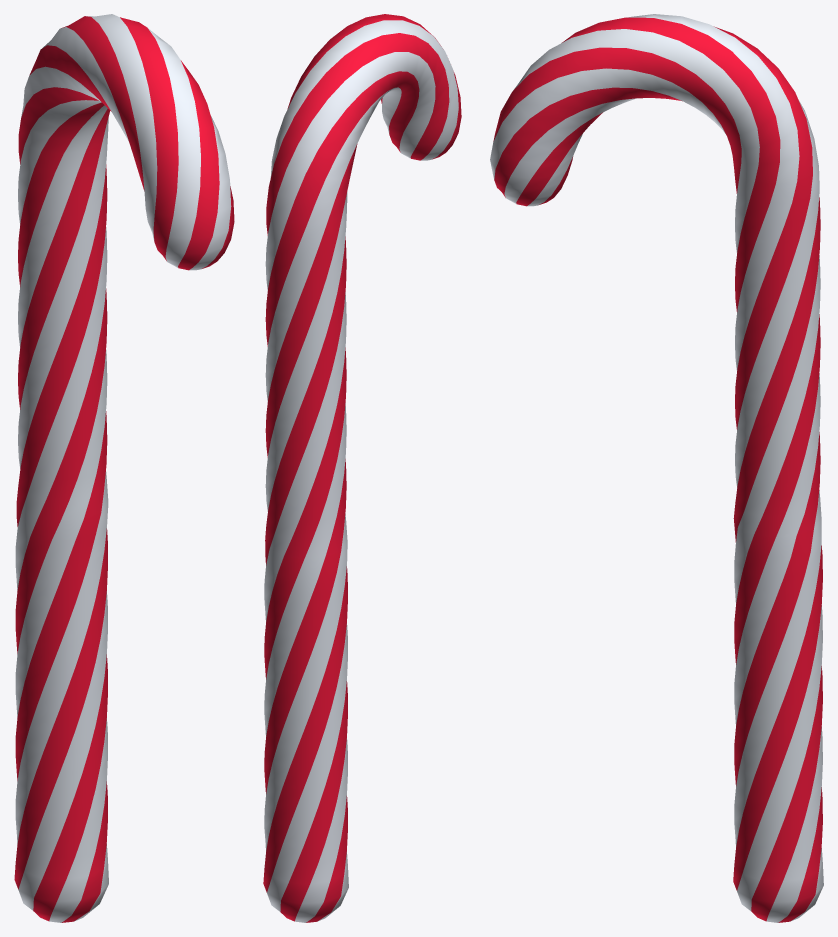
Rendered from caramel_cane_001.fbx.
3 renders of one model, left to right at view 1: azimuth 30°, elevation 25°; view 2: azimuth 150°, elevation 25°; view 3: azimuth 270°, elevation 25°, orthographic. The views are drawn at different scales.
Visible parts, largest first — view 1: caramel_cane_001; view 2: caramel_cane_001; view 3: caramel_cane_001.
Part boxes in pixels (x1,y1,x2,y2): caramel_cane_001: (14,14,234,922); caramel_cane_001: (263,14,461,922); caramel_cane_001: (490,14,823,922).
Bounding box in the file's own units: 96.69 × 356 × 1062.
